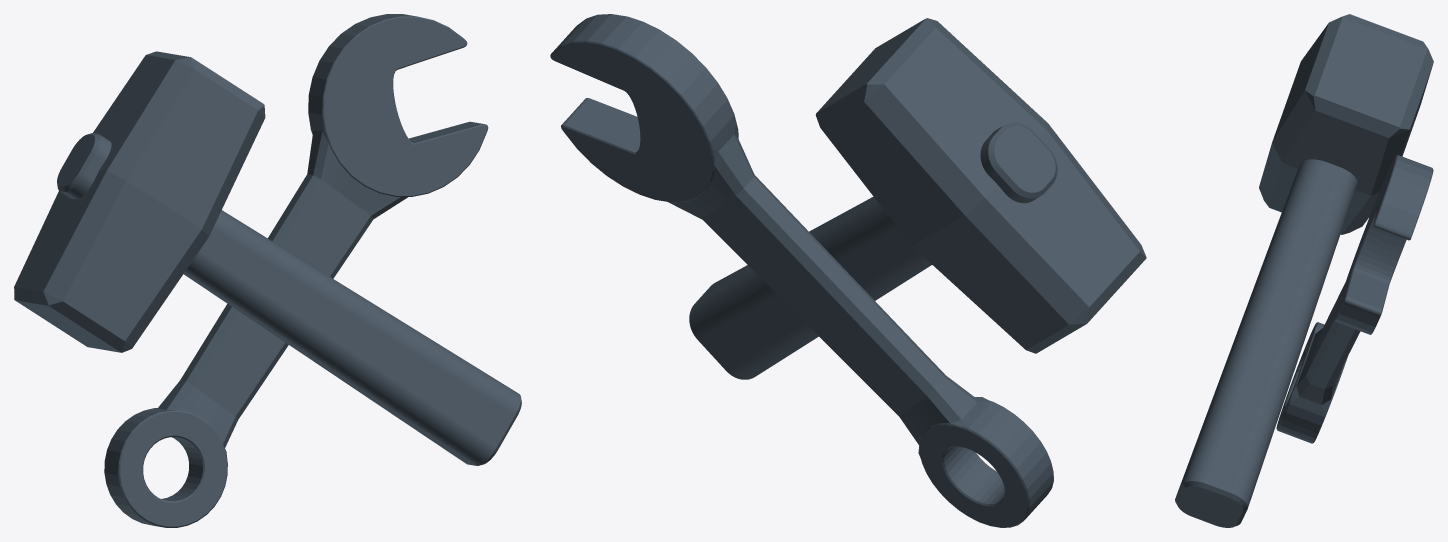
The model's file is hammer.glb.
3 views of the same model, side by side, from view 1: azimuth 30°, elevation 25°; view 2: azimuth 150°, elevation 25°; view 3: azimuth 270°, elevation 25° (orthographic). The views are drawn at different scales.
Visible parts, largest first — view 1: hammer; view 2: hammer; view 3: hammer.
Boxes of the visible parts, left/top/right/bottom form: hammer: left=14, top=14, right=521, bottom=527; hammer: left=550, top=14, right=1146, bottom=527; hammer: left=1175, top=14, right=1433, bottom=527.
Bounding box in the file's own units: 3.85 × 3.5 × 1.87.
